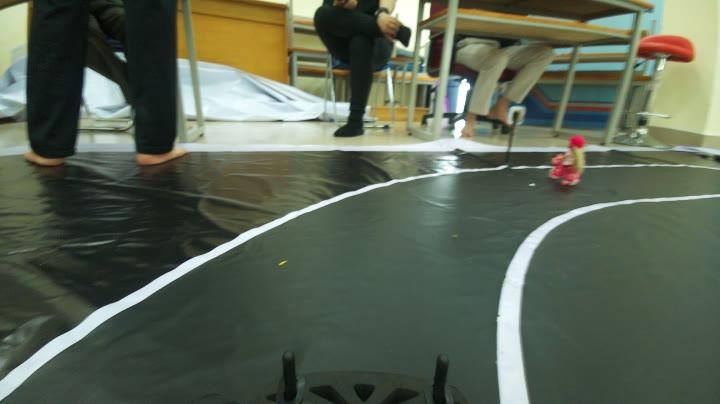pedestrian: (548, 130, 588, 195)
